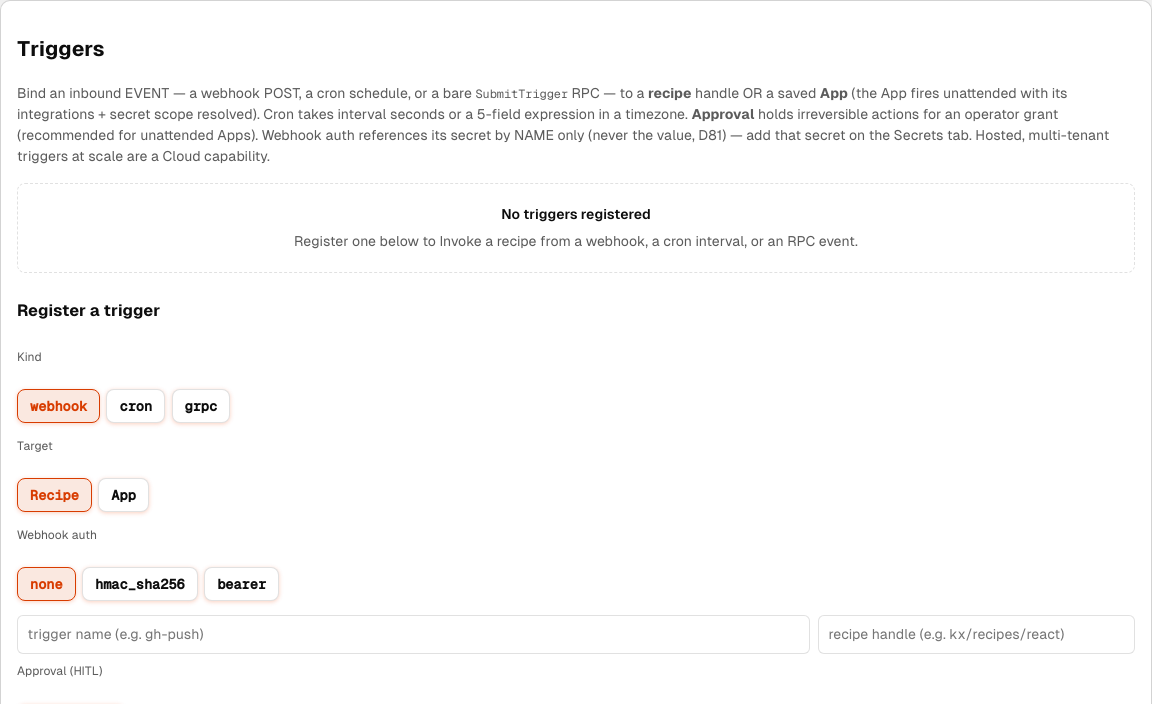
Test: TriggersPanel › the cron kind reveals the schedule field; non-none auth reveals the secret-ref field
What coordinates should you click on to do the following:
click the button with test id "trigger-kind-cron"
I would click on:
 (136, 406)
Its box is [106, 389, 165, 423].
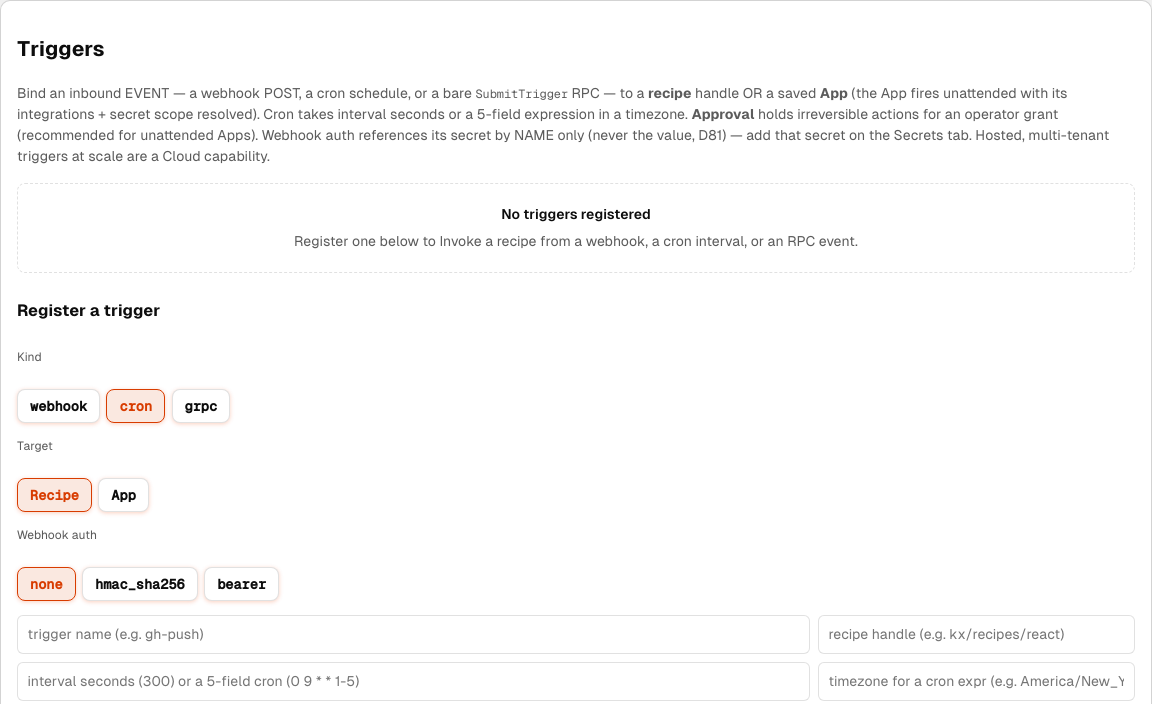
Expected: the field with test id "trigger-add-schedule" is shown, [17, 662, 810, 701]
# Switch auth → hmac via the CHIP control.
What coordinates should you click on to do the following:
click the button with test id "trigger-auth-hmac_sha256"
I would click on:
 (140, 584)
Its box is [82, 567, 198, 601].
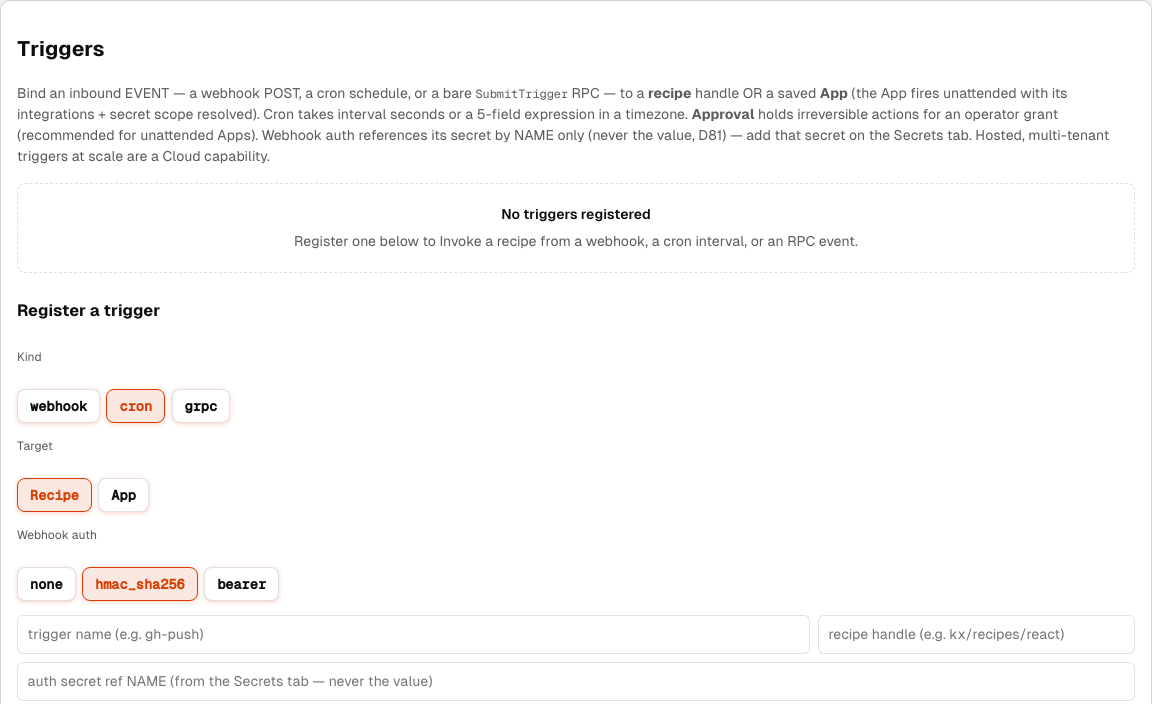
Expected: the field with test id "trigger-add-secret-ref" is shown, [17, 662, 1135, 701]
